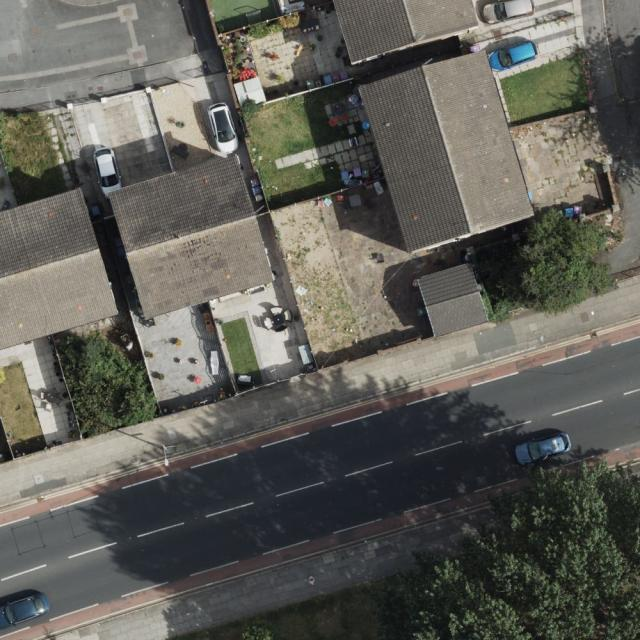roof: (356, 47, 539, 257), (108, 155, 274, 320), (0, 187, 119, 351), (330, 0, 479, 63), (417, 262, 488, 339)
